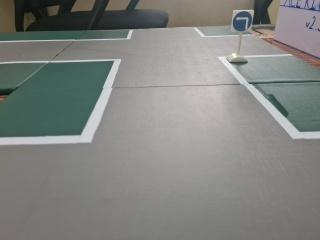left: (231, 9, 253, 33)
